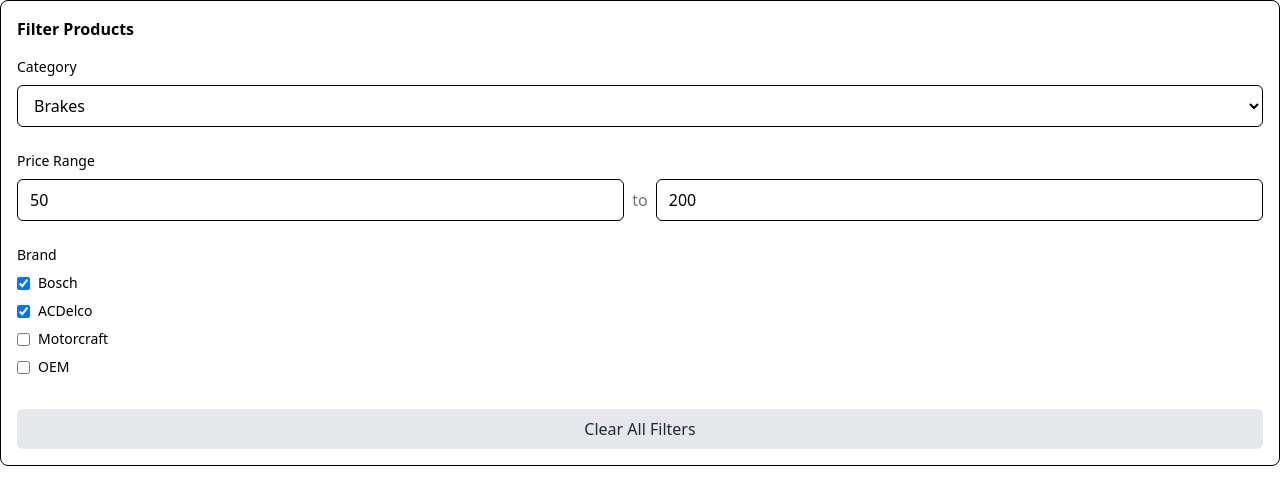
Test: CarParts & Shop Components - SECURITY & DATA INTEGRITY TESTS › FilterSection Component - INPUT VALIDATION REQUIREMENTS › MUST clear all filters properly
The image size is (1280, 483).
Note: STRICT: Clear button should reset all filters
Step 1. Click the button "Clear All Filters" → (640, 429), box [17,409,1263,449]
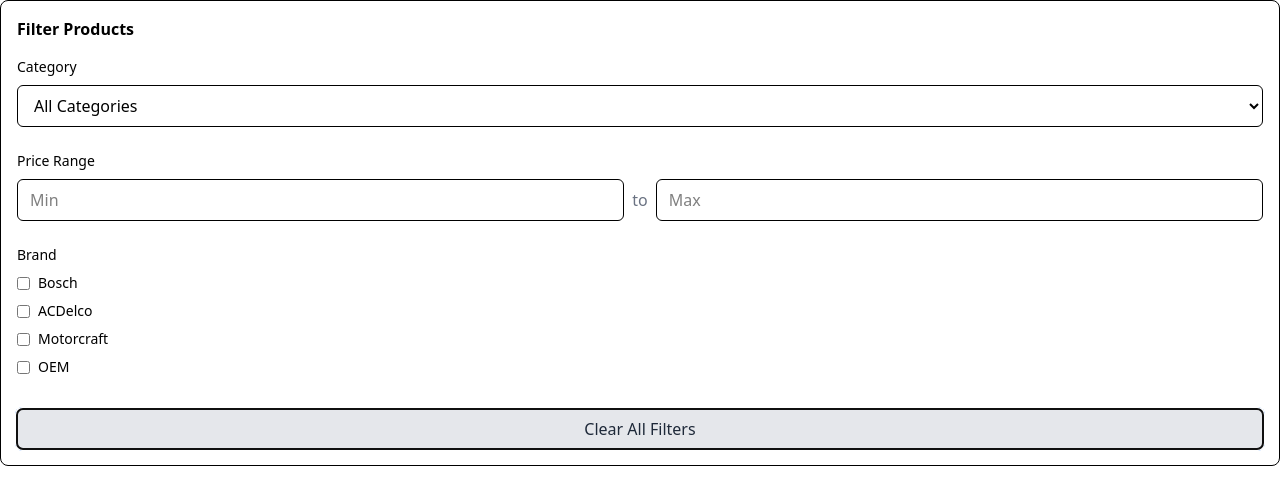
Check: the dropdown named "filter by category" shows "All Categories", box [17,85,1263,127]
Check: the checkbox labelled "Bosch" is not checked, box [17,276,30,290]
Check: the checkbox labelled "ACDelco" is not checked, box [17,304,30,318]
